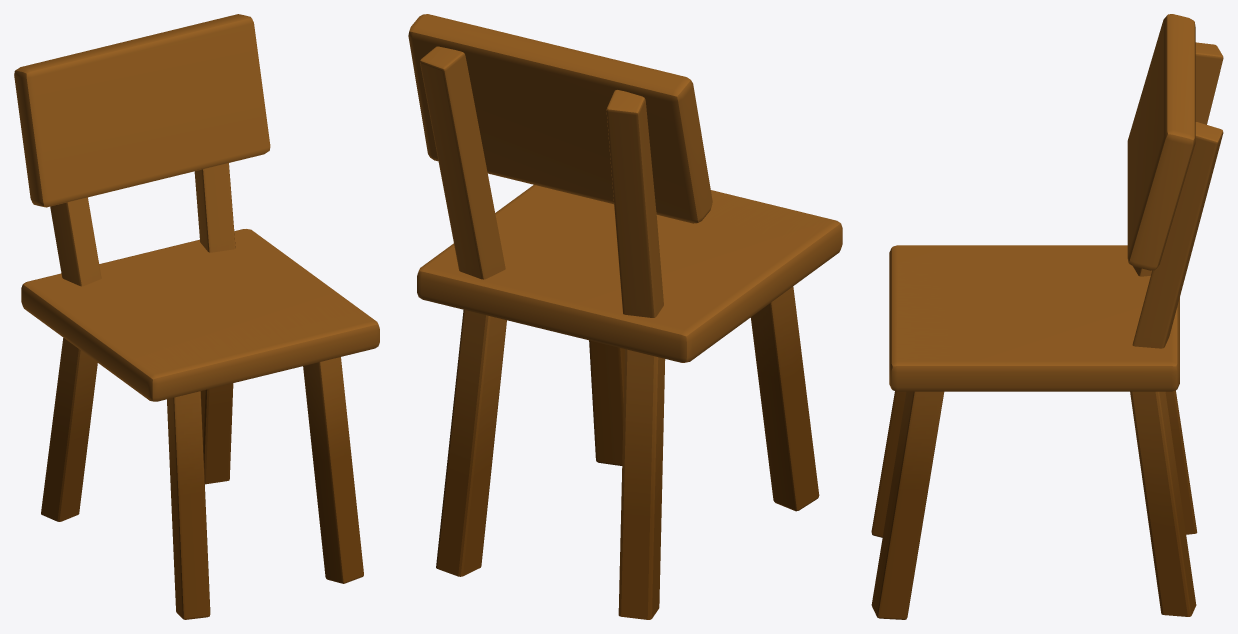
Rendered from SM_Chair.fbx.
3 views of the same model, side by side, from view 1: azimuth 30°, elevation 25°; view 2: azimuth 150°, elevation 25°; view 3: azimuth 270°, elevation 25° (orthographic). The views are drawn at different scales.
Parts seen in each view (by area): view 1: SM_Chair_01; view 2: SM_Chair_01; view 3: SM_Chair_01.
Part boxes in pixels (x1,y1,x2,y2): SM_Chair_01: [14, 14, 379, 619]; SM_Chair_01: [408, 14, 842, 619]; SM_Chair_01: [871, 14, 1223, 619].
Bounding box in the file's own units: 16.5 × 31.45 × 19.98.
